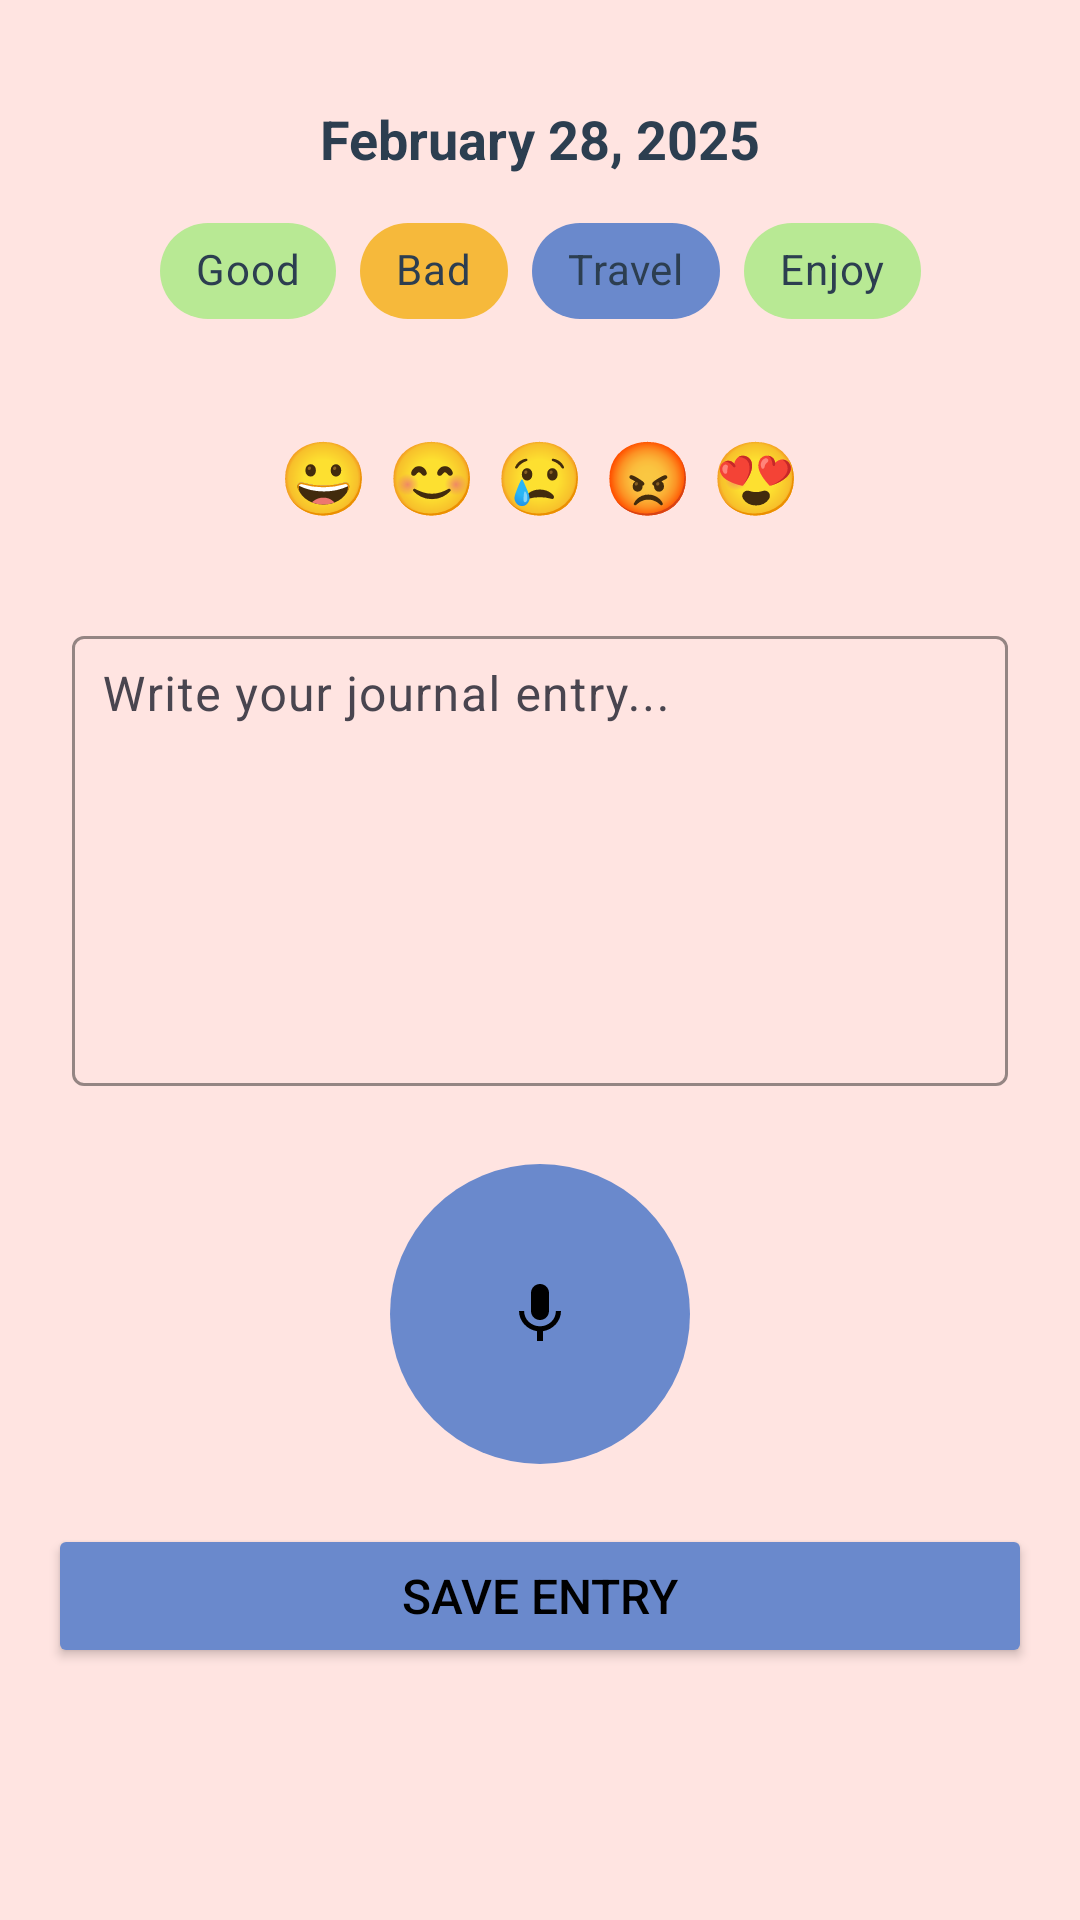

Screen size 1080*1920. Icon name, then its box in pixels as (x1, y1, x2, y2):
Voice Input Button: (390, 1164, 690, 1464)
